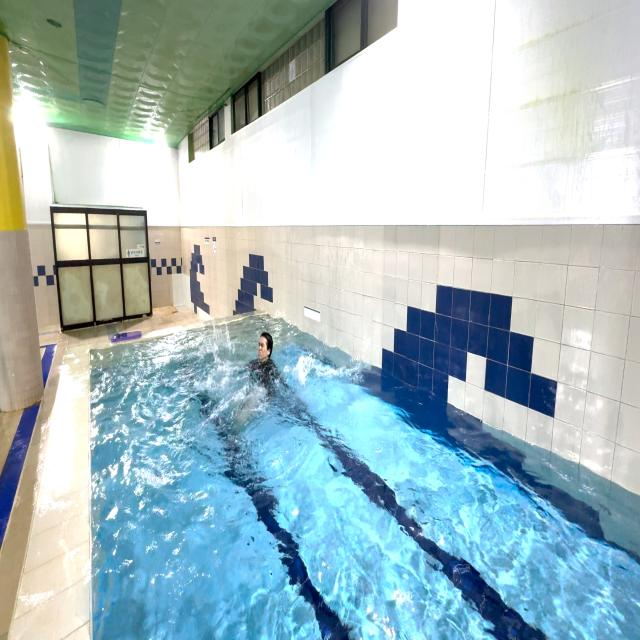Drowning: (216, 325, 296, 412)
